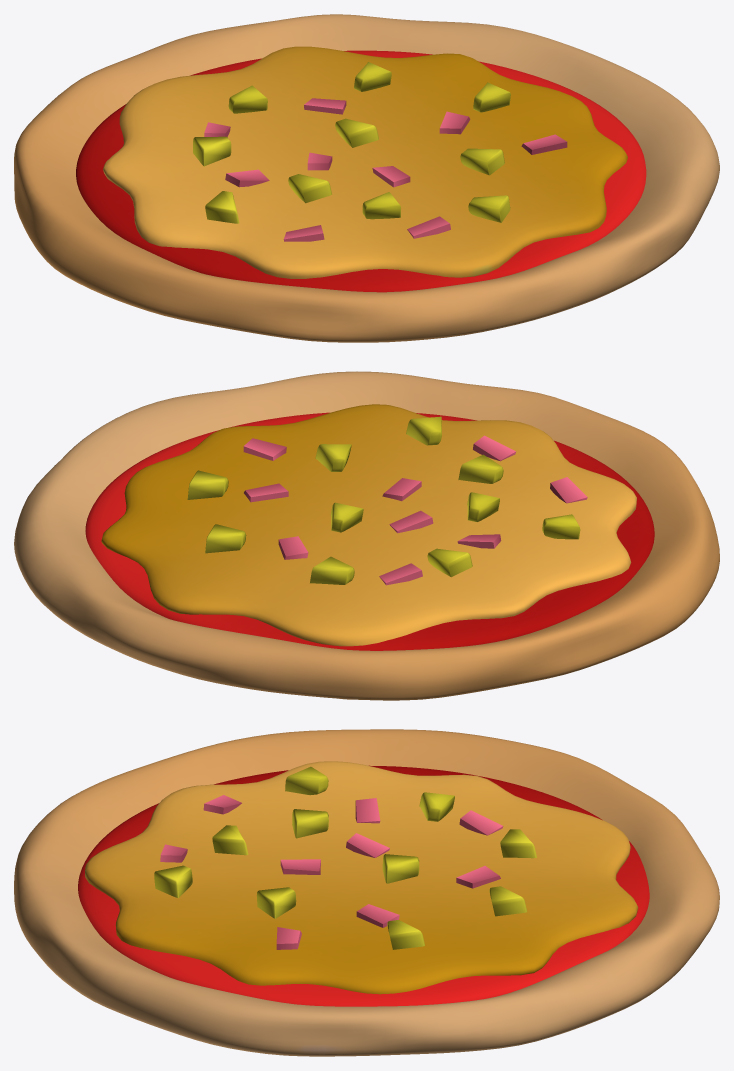
File: PizzaHawaiian.glb
3 renders of one model, top to bottom at view 1: azimuth 30°, elevation 25°; view 2: azimuth 150°, elevation 25°; view 3: azimuth 270°, elevation 25°, orthographic.
Visible parts, largest first — view 1: PizzaHawaii; view 2: PizzaHawaii; view 3: PizzaHawaii.
Part boxes in pixels (x1=…): PizzaHawaii: x1=14, y1=14, x2=719, y2=342; PizzaHawaii: x1=14, y1=371, x2=719, y2=700; PizzaHawaii: x1=14, y1=729, x2=719, y2=1056.
Bounding box in the file's own units: 0.4112 × 0.0436 × 0.4077.
1 material, 1 textured.
